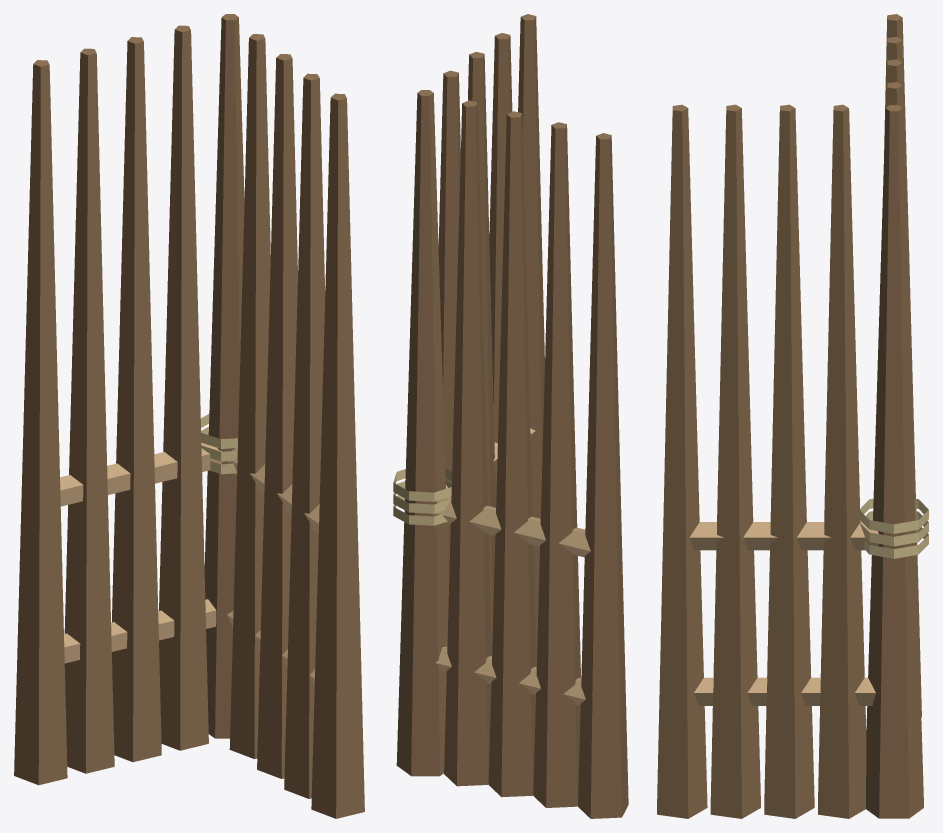
The model's file is palisade_0c.glb.
The picture shows the model from 3 angles, left to right: view 1: azimuth 30°, elevation 25°; view 2: azimuth 150°, elevation 25°; view 3: azimuth 270°, elevation 25°; orthographic projection. The views are drawn at different scales.
Parts seen in each view (by area): view 1: palisade_0c; view 2: palisade_0c; view 3: palisade_0c.
Boxes of the visible parts, box(x1,y1,x2,y2) form: palisade_0c: box(14, 14, 364, 818); palisade_0c: box(393, 14, 628, 818); palisade_0c: box(657, 14, 928, 818).
Bounding box in the file's own units: 0.6428 × 1.8 × 0.6336.
